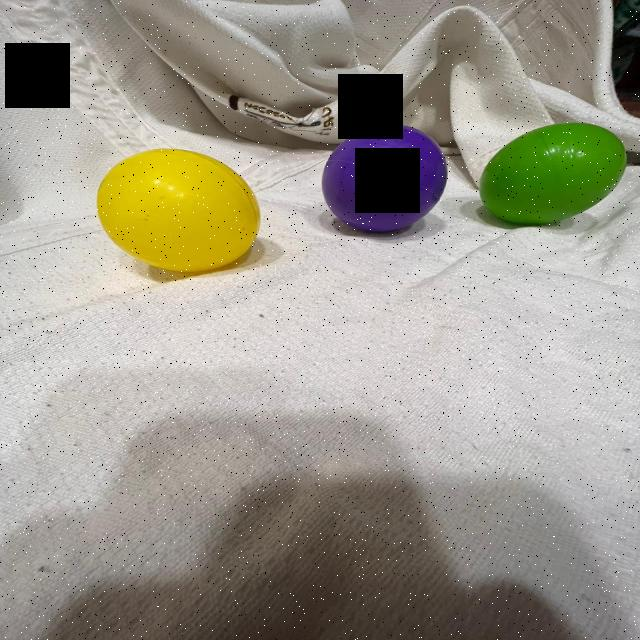ball: (94, 145, 264, 276), (479, 119, 630, 227), (318, 122, 452, 235)
